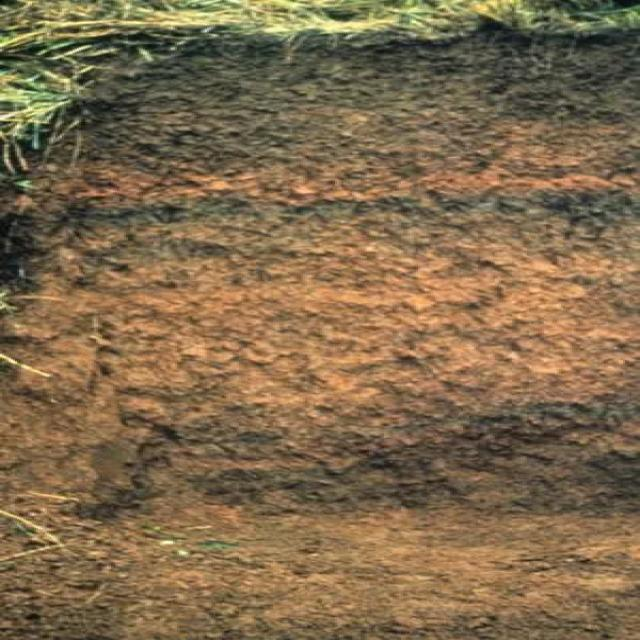suelo_humedo: (189, 195, 571, 587)
